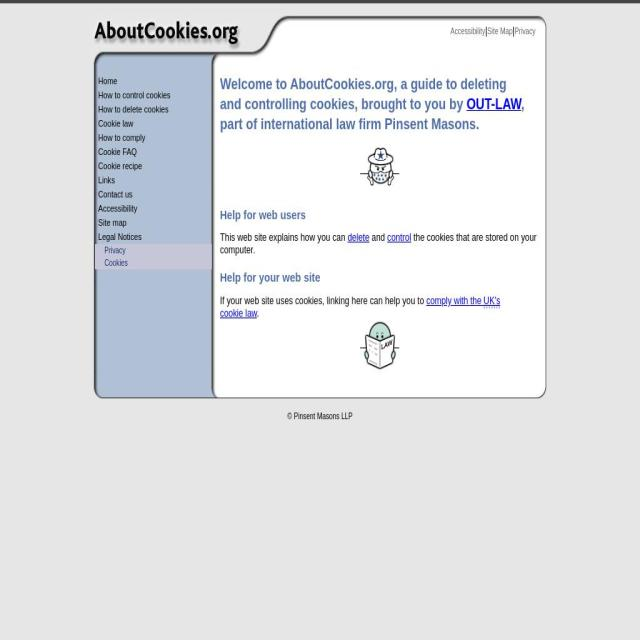button: (95, 158, 212, 174), (95, 172, 212, 188), (95, 186, 212, 202), (95, 116, 212, 131), (95, 130, 212, 145), (95, 144, 212, 159), (95, 201, 212, 216), (95, 215, 212, 230), (95, 229, 212, 244), (95, 74, 212, 88), (95, 88, 212, 102), (95, 102, 212, 116), (95, 243, 212, 257), (95, 256, 212, 269)
heading: (220, 94, 524, 133), (220, 74, 506, 113), (220, 207, 539, 221), (220, 271, 539, 284), (466, 94, 522, 113)
image: (89, 386, 551, 400), (89, 13, 258, 44), (359, 137, 400, 191), (359, 318, 400, 372)
link: (450, 26, 485, 36), (387, 231, 411, 244), (348, 231, 370, 244), (487, 26, 512, 36), (483, 294, 500, 308), (514, 26, 536, 36)
text: (220, 231, 536, 257), (89, 412, 551, 422), (220, 293, 426, 307), (220, 231, 348, 244), (426, 293, 484, 307), (220, 306, 257, 319), (369, 231, 388, 244), (536, 13, 551, 27), (485, 23, 488, 37), (257, 306, 260, 319), (513, 23, 515, 37)
